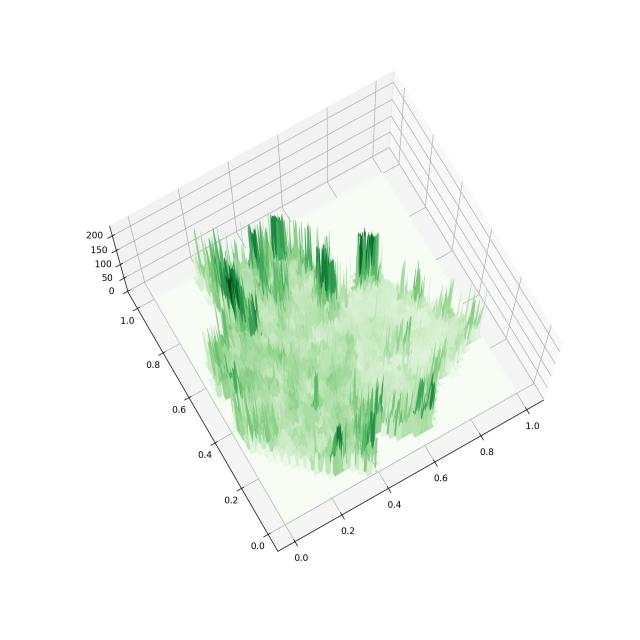fir: (69, 31, 579, 592)
